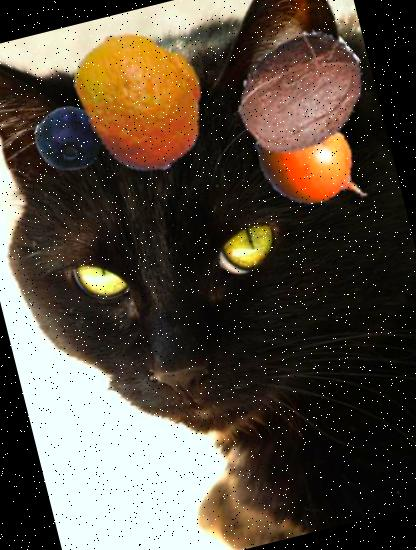Blueberry: (28, 98, 109, 179)
Cocos: (217, 9, 379, 171)
Granadilla: (241, 92, 389, 240)
Mandarine: (56, 12, 232, 189)
